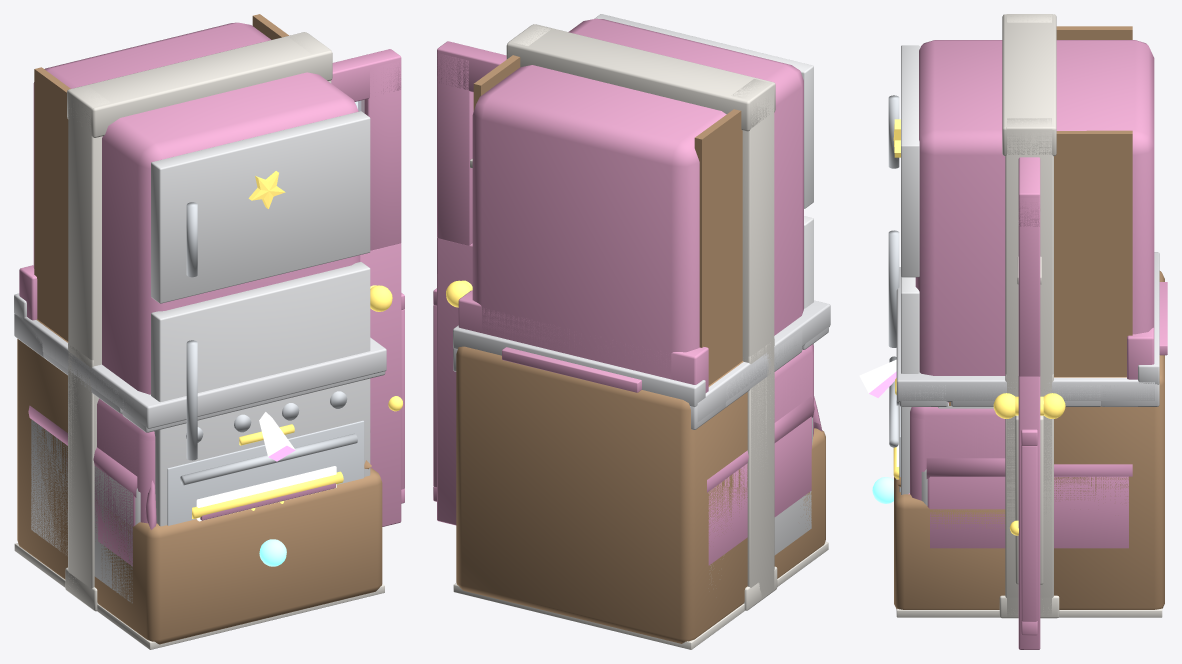
The model's file is ella_world_props_loot.glb.
3 views of the same model, side by side, from view 1: azimuth 30°, elevation 25°; view 2: azimuth 150°, elevation 25°; view 3: azimuth 270°, elevation 25° (orthographic). The views are drawn at different scales.
Visible parts, largest first — view 1: Prop_Kitchen_Fridge, Prop_Stairs, Prop_Door_Frame, Prop_Door_Leaf, Prop_Kitchen_Stove, Prop_Kitchen_Counter, Prop_Wardrobe, Prop_Bath_Tub, Prop_Window_Frame, Prop_Sofa, Prop_Kitchen_Sink, Prop_Rug (+3 smaller); view 2: Prop_Kitchen_Fridge, Prop_Stairs, Prop_Door_Frame, Prop_Door_Leaf, Prop_Wardrobe, Prop_Kitchen_Counter, Prop_Sofa, Prop_Kitchen_Stove, Prop_Kitchen_Sink, Prop_Rug, Prop_Window_Frame, Prop_Bath_Tub (+1 smaller); view 3: Prop_Kitchen_Fridge, Prop_Stairs, Prop_Wardrobe, Prop_Door_Frame, Prop_Sofa, Prop_Kitchen_Counter, Prop_Door_Leaf, Prop_Window_Frame, Prop_Window_Sash, Prop_Kitchen_Stove, Prop_Kitchen_Sink, Prop_Rug (+2 smaller).
Part boxes in pixels (<box>): Prop_Kitchen_Fridge: <box>33,22,370,526</box>; Prop_Stairs: <box>17,319,382,644</box>; Prop_Door_Frame: <box>67,32,332,607</box>; Prop_Door_Leaf: <box>331,49,401,526</box>; Prop_Kitchen_Stove: <box>19,265,364,525</box>; Prop_Kitchen_Counter: <box>14,293,386,510</box>; Prop_Wardrobe: <box>34,14,288,341</box>; Prop_Bath_Tub: <box>31,419,140,603</box>; Prop_Window_Frame: <box>65,343,101,611</box>; Prop_Sofa: <box>28,405,370,566</box>; Prop_Kitchen_Sink: <box>14,314,385,523</box>; Prop_Rug: <box>14,543,384,649</box>; Prop_Kitchen_Fridge: <box>472,14,813,379</box>; Prop_Stairs: <box>456,346,825,643</box>; Prop_Door_Frame: <box>506,24,775,607</box>; Prop_Door_Leaf: <box>437,41,506,525</box>; Prop_Wardrobe: <box>473,55,742,385</box>; Prop_Kitchen_Counter: <box>453,300,830,422</box>; Prop_Sofa: <box>707,397,814,565</box>; Prop_Kitchen_Stove: <box>458,290,708,392</box>; Prop_Kitchen_Sink: <box>453,327,828,436</box>; Prop_Rug: <box>453,541,828,649</box>; Prop_Window_Frame: <box>744,339,777,610</box>; Prop_Bath_Tub: <box>710,417,812,567</box>; Prop_Kitchen_Fridge: <box>888,40,1154,494</box>; Prop_Stairs: <box>893,271,1167,609</box>; Prop_Wardrobe: <box>949,26,1132,405</box>; Prop_Door_Frame: <box>1002,14,1056,618</box>; Prop_Sofa: <box>926,458,1132,548</box>; Prop_Kitchen_Counter: <box>895,252,1159,470</box>; Prop_Door_Leaf: <box>993,157,1065,649</box>; Prop_Window_Frame: <box>999,374,1059,618</box>; Prop_Window_Sash: <box>1010,429,1037,635</box>; Prop_Kitchen_Stove: <box>889,327,1154,492</box>; Prop_Kitchen_Sink: <box>899,384,1159,500</box>; Prop_Rug: <box>896,608,1162,617</box>.
Size of the model in its own units: 1.34 by 2.02 by 1.14.
